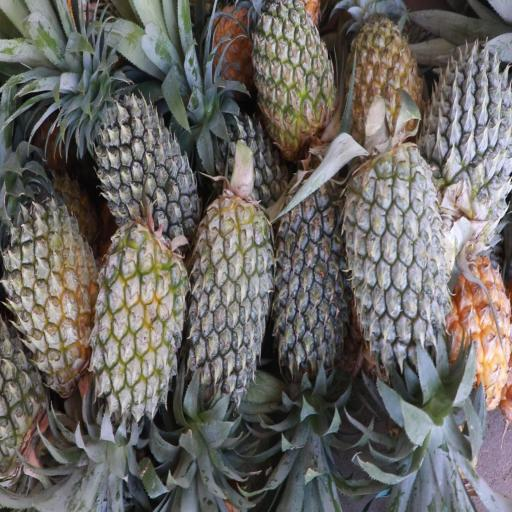------------------------------: (98, 214, 186, 423), (9, 191, 99, 379), (256, 0, 336, 151), (346, 8, 419, 154)
Pineapple - v8 v1: (450, 253, 512, 400)
